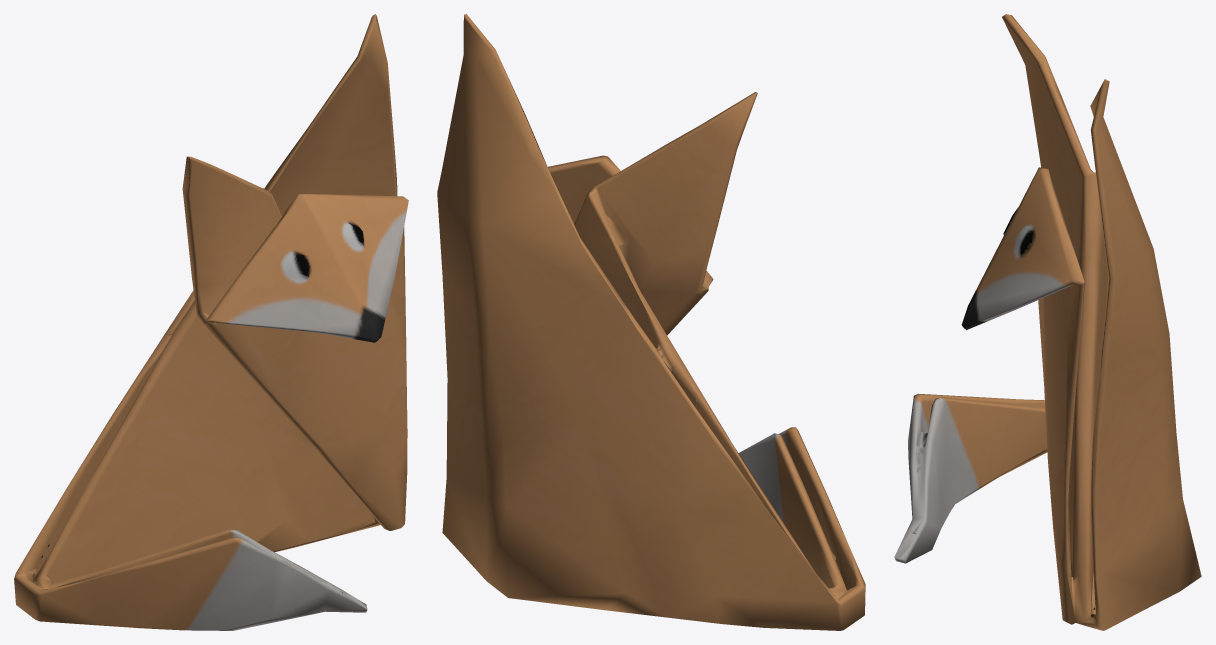
The model's file is fox_FDRemesh_LOD2.fbx.
3 views of the same model, side by side, from view 1: azimuth 30°, elevation 25°; view 2: azimuth 150°, elevation 25°; view 3: azimuth 270°, elevation 25° (orthographic). The views are drawn at different scales.
Visible parts, largest first — view 1: Simplygon_Proxy_7178ede5-2bcd-4e76-8d46-912146b78f60; view 2: Simplygon_Proxy_7178ede5-2bcd-4e76-8d46-912146b78f60; view 3: Simplygon_Proxy_7178ede5-2bcd-4e76-8d46-912146b78f60.
Boxes of the visible parts, x1,y1,x2,y2 form: Simplygon_Proxy_7178ede5-2bcd-4e76-8d46-912146b78f60: (14,14,408,630); Simplygon_Proxy_7178ede5-2bcd-4e76-8d46-912146b78f60: (437,14,865,630); Simplygon_Proxy_7178ede5-2bcd-4e76-8d46-912146b78f60: (894,14,1201,630).
Bounding box in the file's own units: 22.23 × 27.76 × 14.27.
Materials: 1 (1 with a texture image).
